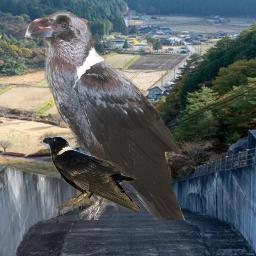Crow: (24, 9, 185, 220), (41, 134, 140, 212)
